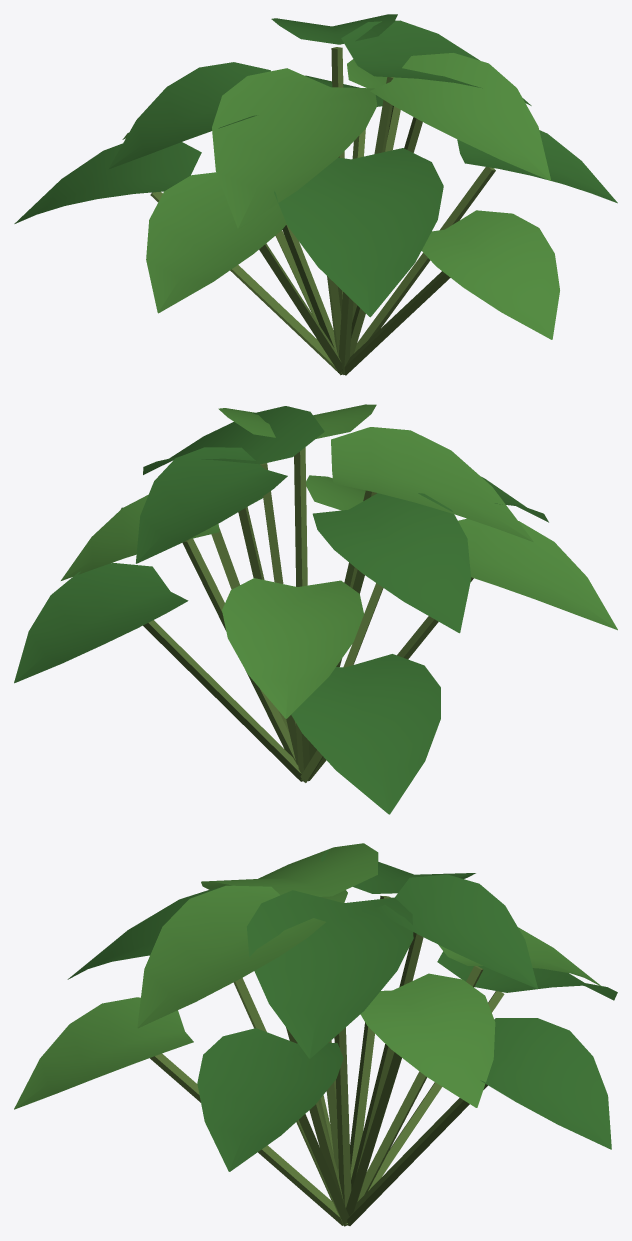
The model's file is shrub.glb.
The picture shows the model from 3 angles, top to bottom: view 1: azimuth 30°, elevation 25°; view 2: azimuth 150°, elevation 25°; view 3: azimuth 270°, elevation 25°; orthographic projection. The views are drawn at different scales.
Parts seen in each view (by area): view 1: leaf2_14, leaf_13, stalk_8, stalk_11, stalk_9, stalk_12, stalk_4, stalk_6, stalk_3, stalk_0, stalk_1, stalk_7 (+1 smaller); view 2: leaf_13, leaf2_14, stalk_10, stalk_5, stalk_3, stalk_2, stalk_0, stalk_6, stalk_9, stalk_8; view 3: leaf_13, leaf2_14, stalk_10, stalk_11, stalk_0, stalk_2, stalk_4, stalk_5, stalk_7, stalk_12, stalk_8, stalk_3 (+2 smaller).
Boxes of the visible parts, x1=… form: leaf2_14: x1=122, y1=53, x2=559, y2=339; leaf_13: x1=14, y1=14, x2=617, y2=317; stalk_8: x1=354, y1=167, x2=495, y2=353; stalk_11: x1=342, y1=271, x2=450, y2=375; stalk_9: x1=259, y1=243, x2=342, y2=375; stalk_12: x1=150, y1=191, x2=341, y2=373; stalk_4: x1=282, y1=224, x2=338, y2=372; stalk_6: x1=338, y1=292, x2=353, y2=374; stalk_3: x1=349, y1=117, x2=422, y2=357; stalk_0: x1=352, y1=77, x2=393, y2=322; stalk_1: x1=327, y1=276, x2=341, y2=373; stalk_7: x1=275, y1=230, x2=318, y2=323; leaf_13: x1=14, y1=406, x2=548, y2=814; leaf2_14: x1=61, y1=404, x2=617, y2=718; stalk_10: x1=143, y1=620, x2=302, y2=781; stalk_5: x1=182, y1=538, x2=298, y2=766; stalk_3: x1=294, y1=447, x2=307, y2=586; stalk_2: x1=238, y1=507, x2=301, y2=780; stalk_0: x1=260, y1=463, x2=301, y2=779; stalk_6: x1=343, y1=583, x2=383, y2=667; stalk_9: x1=308, y1=577, x2=473, y2=780; stalk_8: x1=211, y1=527, x2=289, y2=732; leaf_13: x1=67, y1=849, x2=617, y2=1171; leaf2_14: x1=14, y1=843, x2=602, y2=1109; stalk_10: x1=347, y1=1084, x2=487, y2=1225; stalk_11: x1=150, y1=1053, x2=347, y2=1225; stalk_0: x1=334, y1=1027, x2=351, y2=1224; stalk_2: x1=351, y1=932, x2=423, y2=1189; stalk_4: x1=350, y1=895, x2=391, y2=1179; stalk_5: x1=346, y1=1052, x2=401, y2=1225; stalk_7: x1=357, y1=966, x2=483, y2=1201; stalk_12: x1=368, y1=991, x2=504, y2=1190; stalk_8: x1=298, y1=1114, x2=349, y2=1226; stalk_3: x1=286, y1=1027, x2=343, y2=1224.
Bounding box in the file's own units: 1.53 × 1.01 × 1.61.
